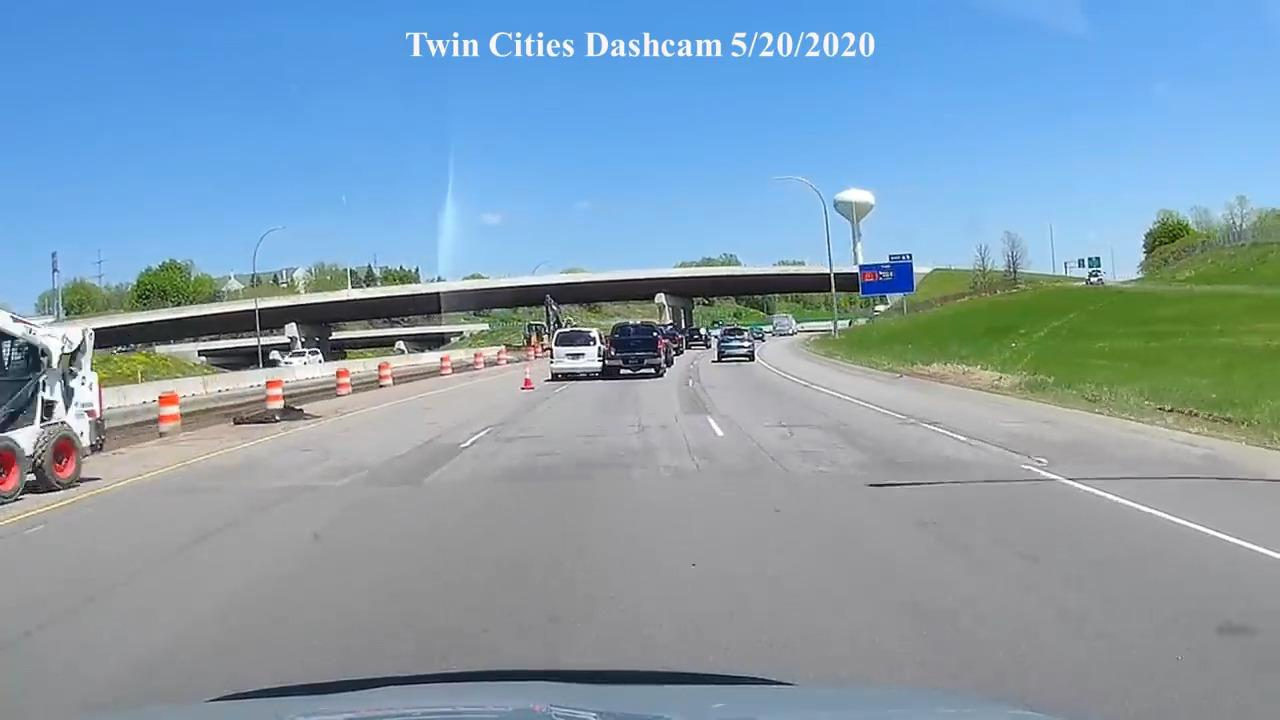traffic cone: (265, 378, 285, 409), (519, 359, 537, 391), (334, 367, 353, 396), (377, 361, 393, 387), (520, 365, 535, 391), (439, 352, 453, 376), (496, 346, 508, 365)
